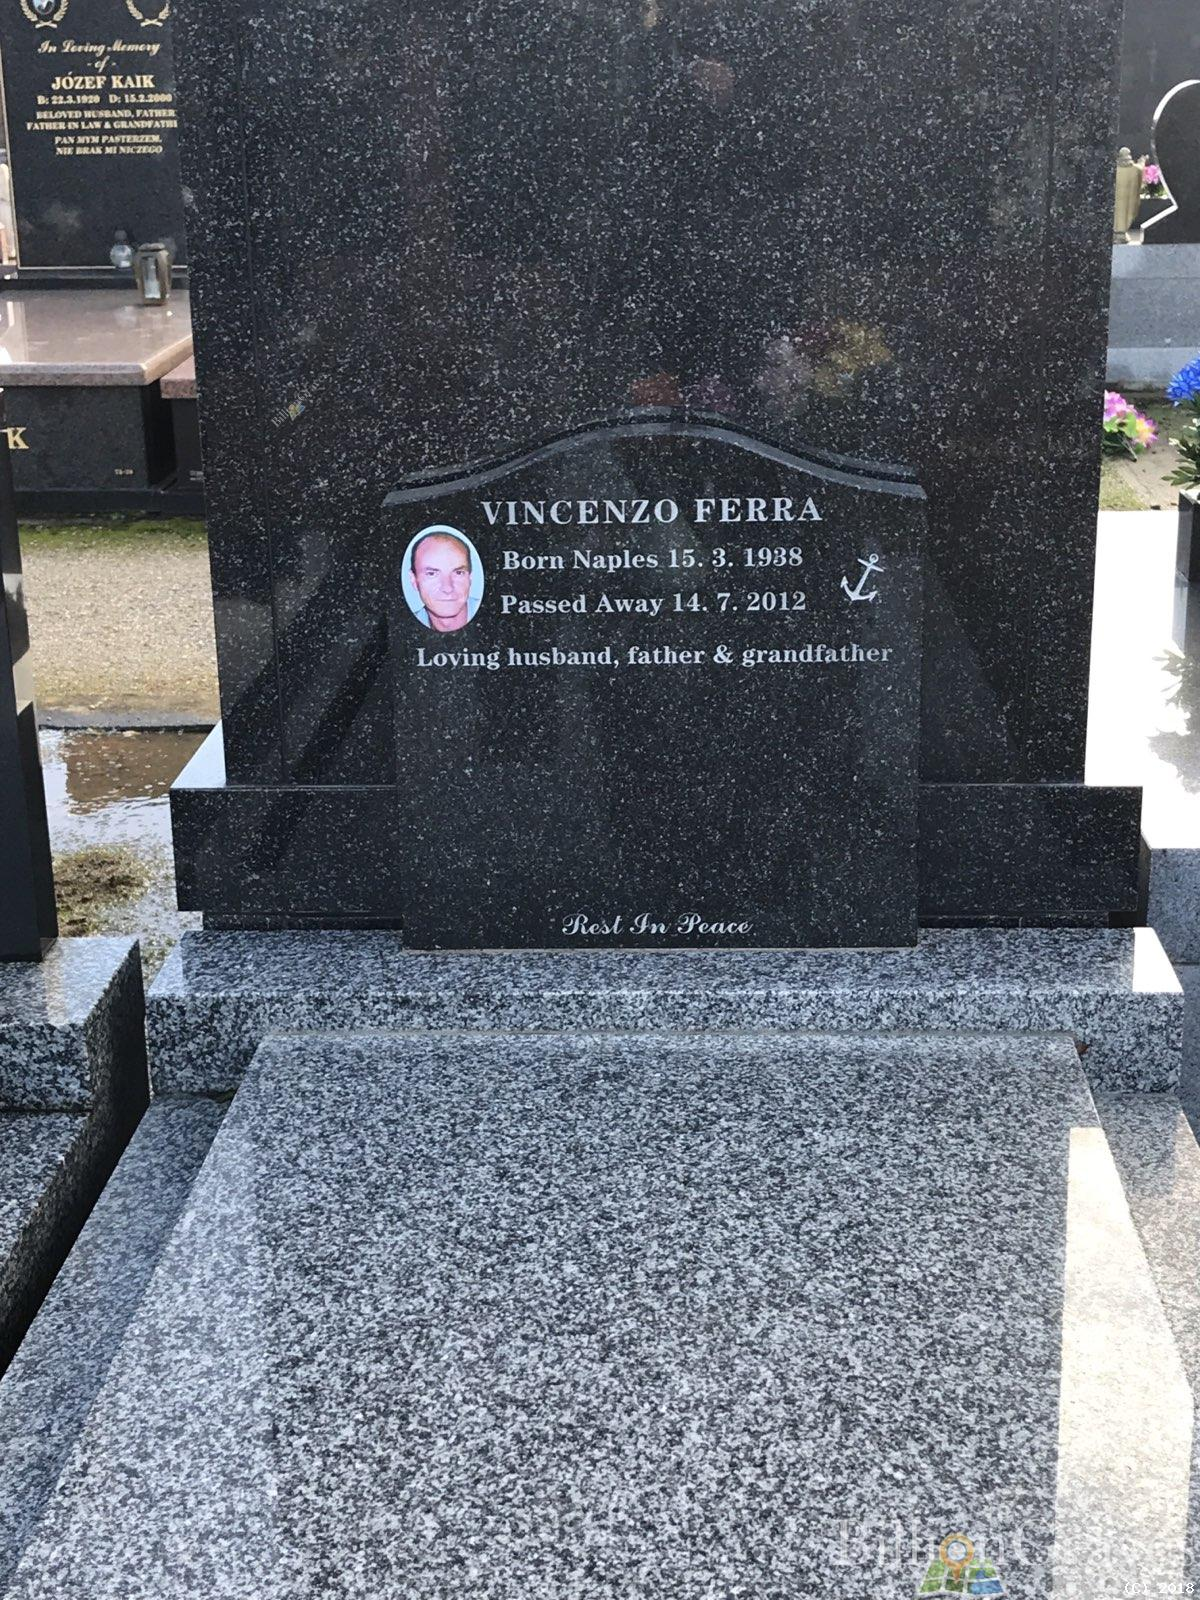vault: (147, 13, 1186, 1600)
